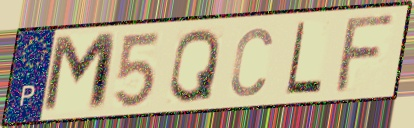5: (111, 28, 164, 109)
C: (227, 25, 275, 100)
F: (331, 12, 400, 96)
L: (283, 19, 325, 97)
M: (39, 30, 121, 117)
Q: (166, 25, 223, 106)
